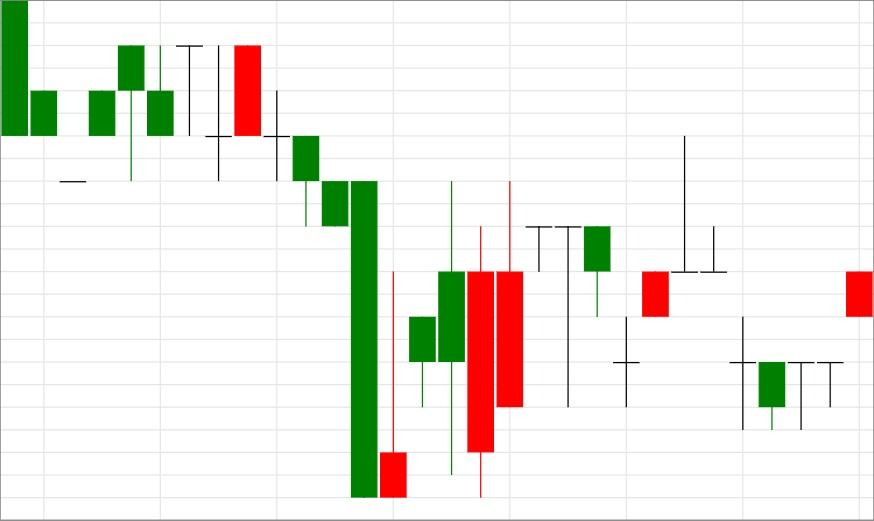inverse_hammer_rise: (234, 45, 408, 499)
